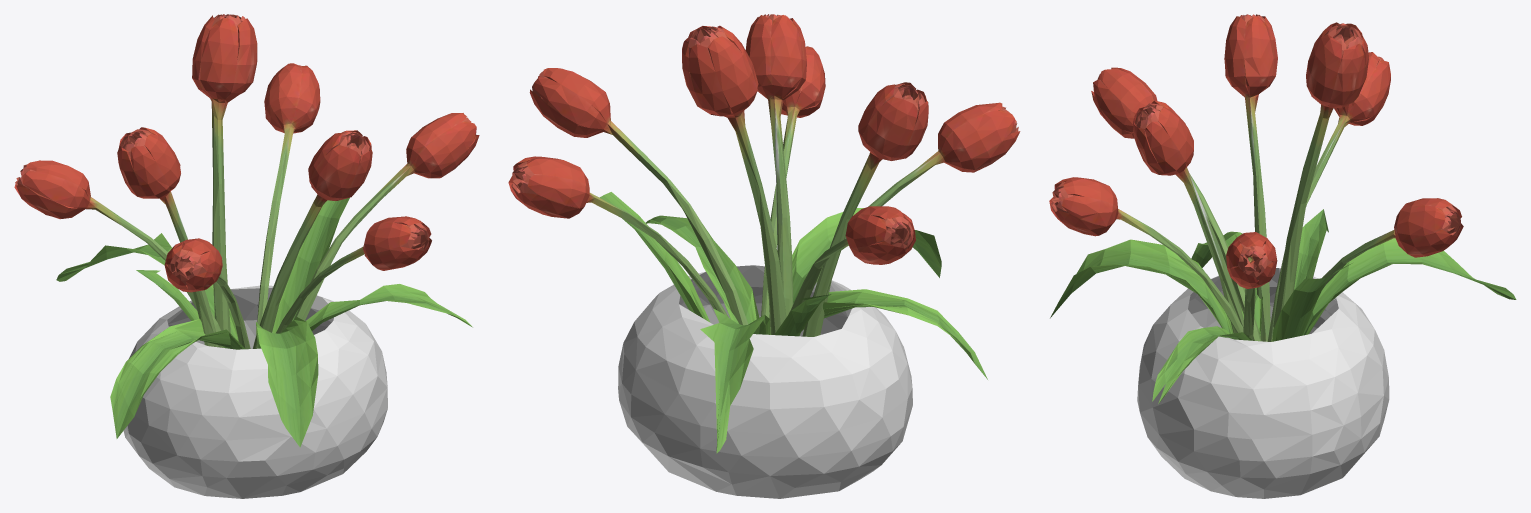
The model's file is sh-bsby-tulip.glb.
3 renders of one model, left to right at view 1: azimuth 30°, elevation 25°; view 2: azimuth 150°, elevation 25°; view 3: azimuth 270°, elevation 25°, orthographic. The views are drawn at different scales.
Parts seen in each view (by area): view 1: Circle.008_Circle.004, Circle_Circle.001, Plane.013_Plane.002; view 2: Circle.008_Circle.004, Circle_Circle.001, Plane.013_Plane.002; view 3: Circle_Circle.001, Circle.008_Circle.004, Plane.013_Plane.002.
Part boxes in pixels (left/top/right/bottom): Circle.008_Circle.004: left=14, top=14, right=479, bottom=349; Circle_Circle.001: left=123, top=285, right=387, bottom=498; Plane.013_Plane.002: left=56, top=197, right=472, bottom=447; Circle.008_Circle.004: left=508, top=14, right=1020, bottom=336; Circle_Circle.001: left=618, top=265, right=912, bottom=498; Plane.013_Plane.002: left=599, top=192, right=987, bottom=453; Circle_Circle.001: left=1137, top=268, right=1389, bottom=498; Circle.008_Circle.004: left=1049, top=14, right=1463, bottom=341; Plane.013_Plane.002: left=1050, top=209, right=1516, bottom=403.
Size of the model in its own units: 1 by 0.9983 by 0.9585.
3 materials, 2 textured.
